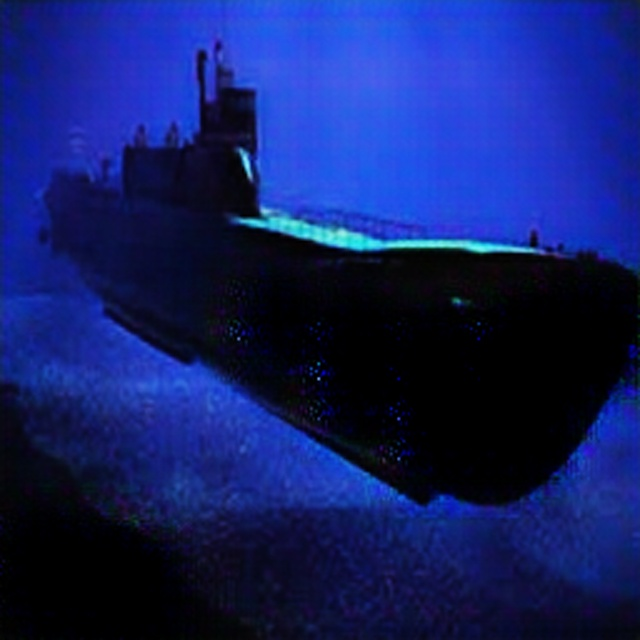submarine: (42, 49, 638, 529)
